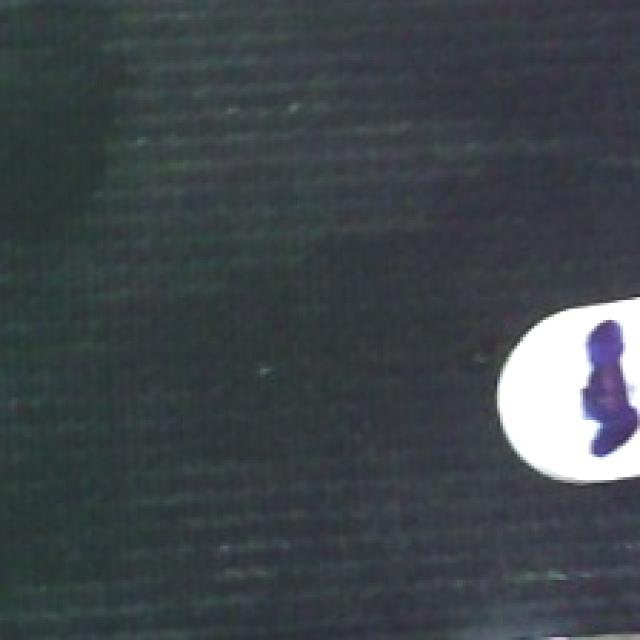defected: (494, 292, 640, 492)
